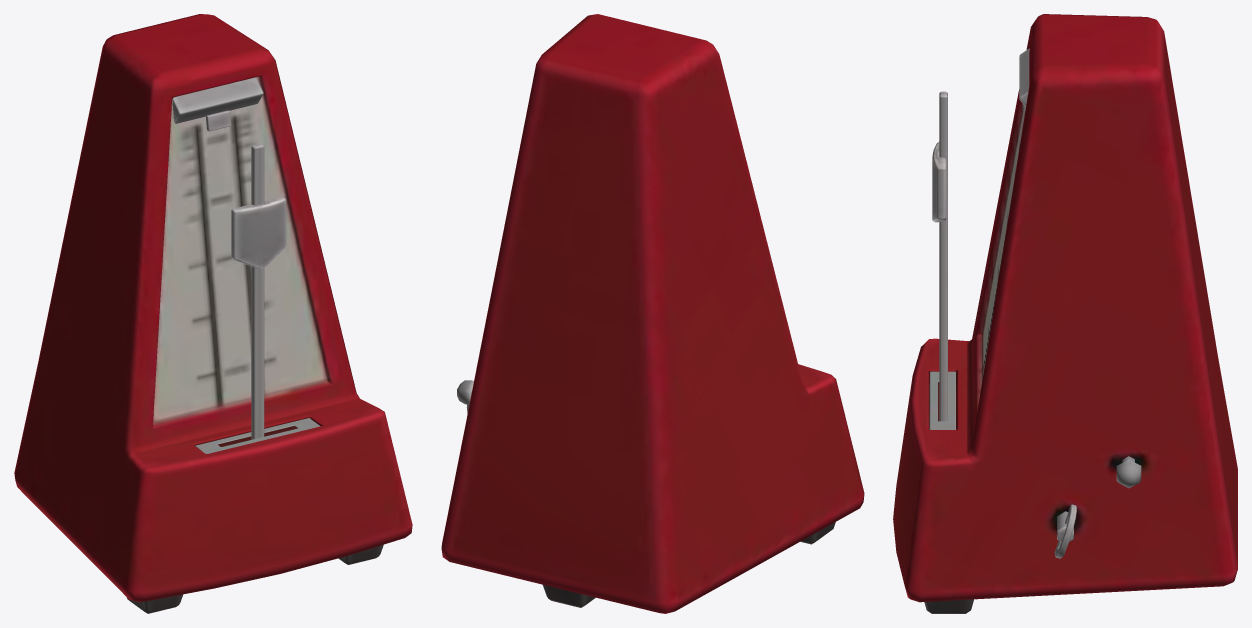
3 views of the same model, side by side, from view 1: azimuth 30°, elevation 25°; view 2: azimuth 150°, elevation 25°; view 3: azimuth 270°, elevation 25° (orthographic). The views are drawn at different scales.
Bounding box in the file's own units: 4.53 × 6.97 × 4.22.
1 material, 1 textured.
